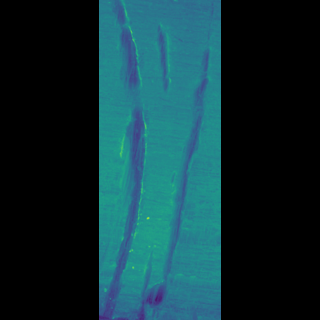Loch: (148, 1, 183, 318), (137, 0, 156, 318), (156, 21, 165, 98)
